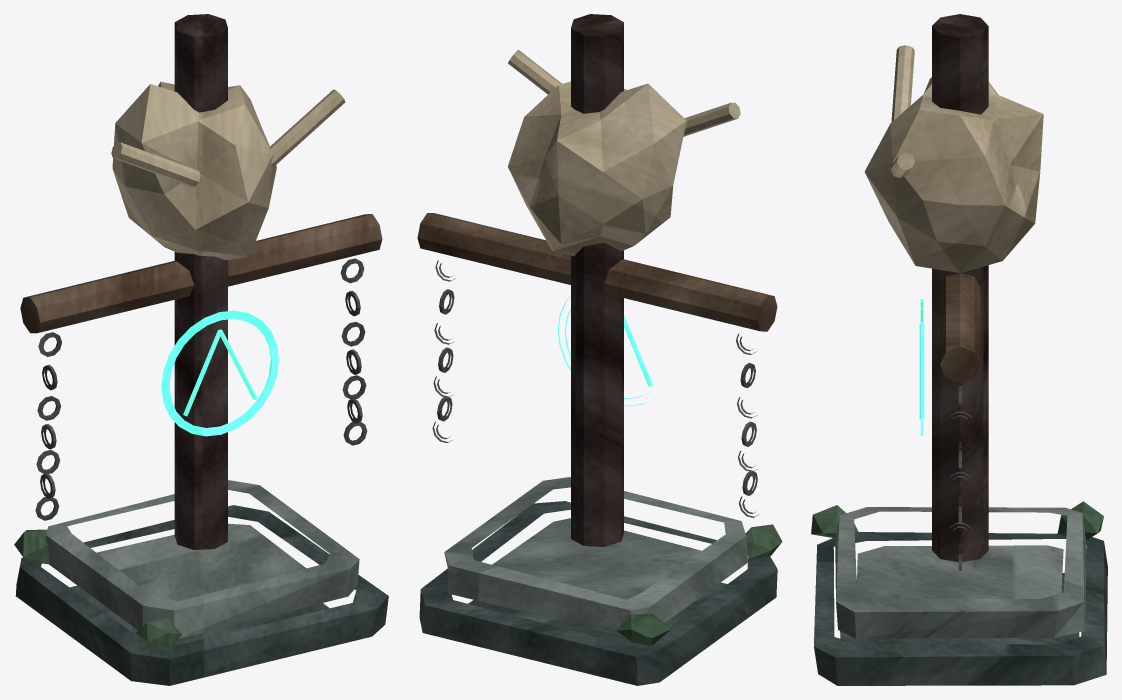
File: 0525_effigy_25.glb
3 views of the same model, side by side, from view 1: azimuth 30°, elevation 25°; view 2: azimuth 150°, elevation 25°; view 3: azimuth 270°, elevation 25° (orthographic). The views are drawn at different scales.
Parts seen in each view (by area): view 1: bone, stone, stone_dark, wood_dark, wood, iron, glow, moss; view 2: bone, stone, wood_dark, stone_dark, wood, iron, moss, glow; view 3: bone, stone, stone_dark, wood_dark, wood, moss, glow, iron.
Part boxes in pixels (x1,y1,x2,y2): bone: (111,81,345,259); stone: (45,480,359,638); stone_dark: (15,505,388,685); wood_dark: (174,14,227,549); wood: (20,214,382,333); iron: (35,258,367,520); glow: (161,310,278,436); moss: (14,529,181,652); bone: (508,50,740,255); stone: (444,477,748,636); wood_dark: (571,14,623,546); stone_dark: (419,501,777,685); wood: (417,213,777,331); iron: (432,260,759,517); moss: (616,524,782,645); glow: (557,296,656,406); bone: (864,45,1043,273); stone: (835,507,1086,638); stone_dark: (814,532,1107,685); wood_dark: (932,14,988,562); wood: (940,273,980,383); moss: (811,501,1103,539); glow: (919,299,924,435); iron: (947,383,973,570).
Size of the model in its own units: 2 by 3.28 by 1.47.
8 materials, 8 textured.
